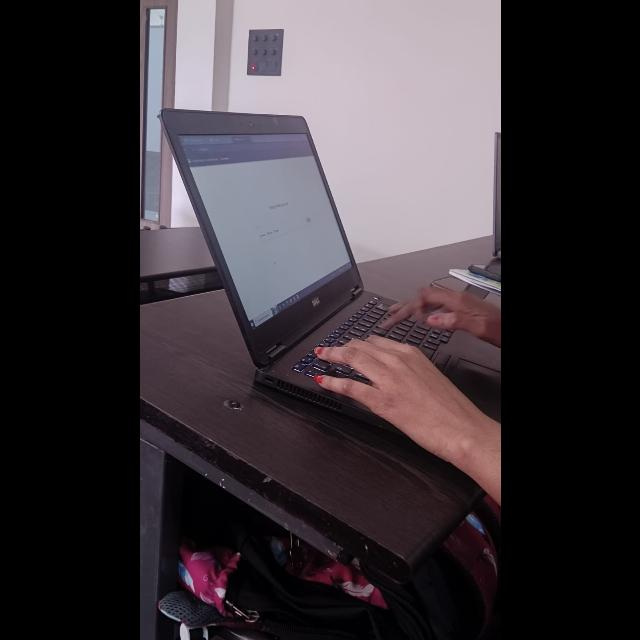laptop: (154, 84, 468, 390)
